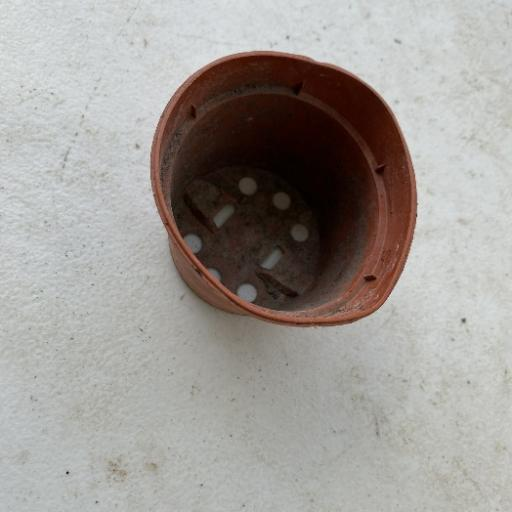Plastic: (147, 48, 419, 329)
